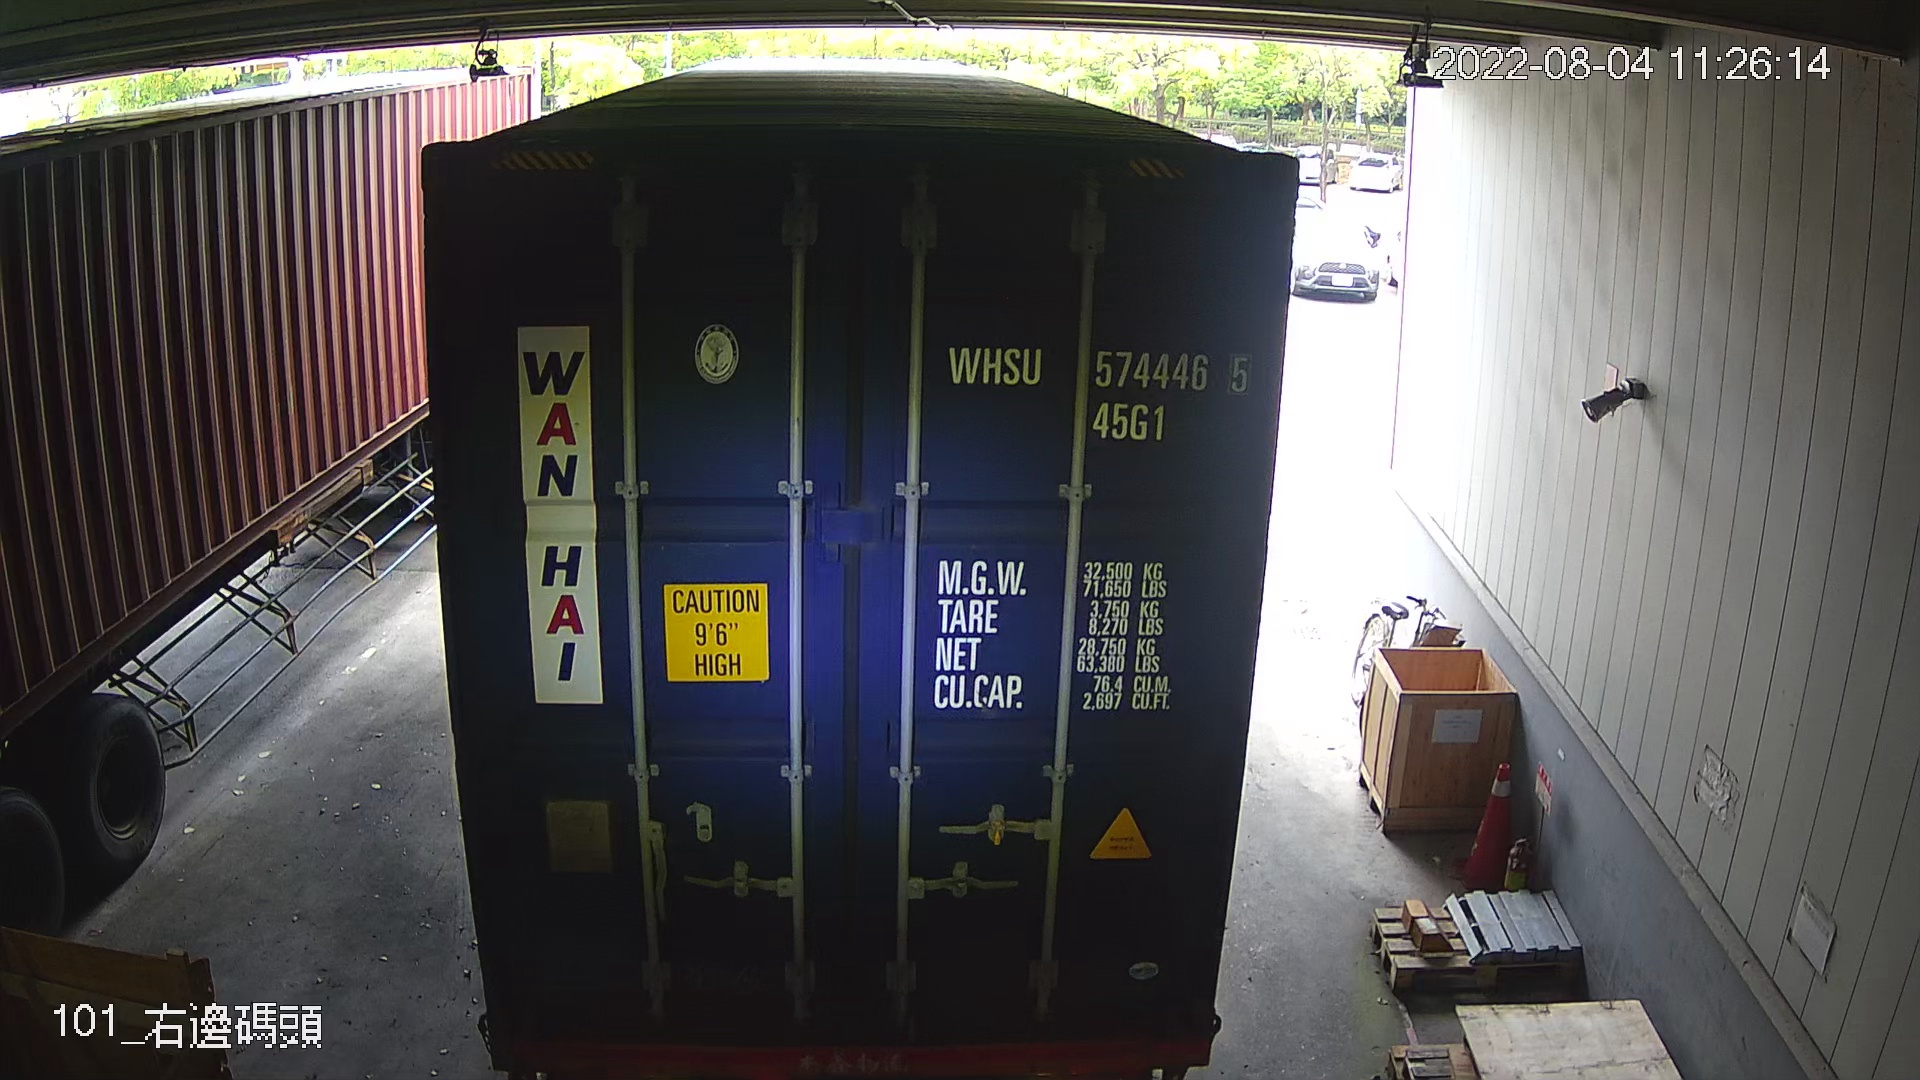container: (938, 323, 1262, 454)
